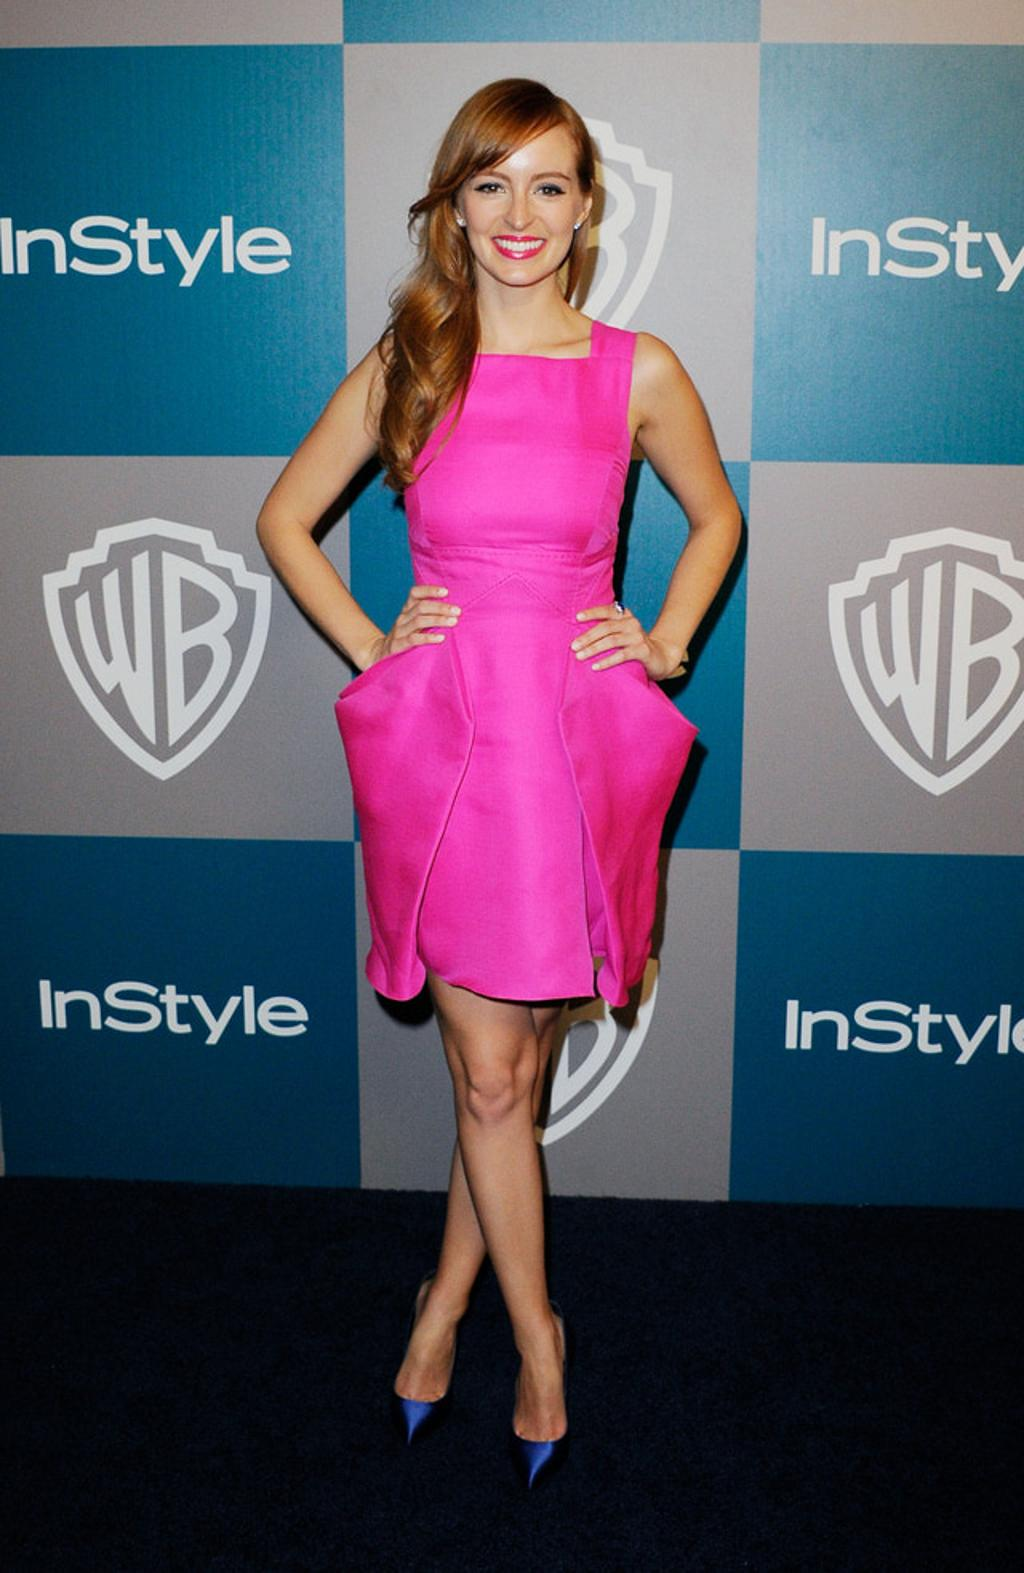face: (467, 101, 581, 286)
